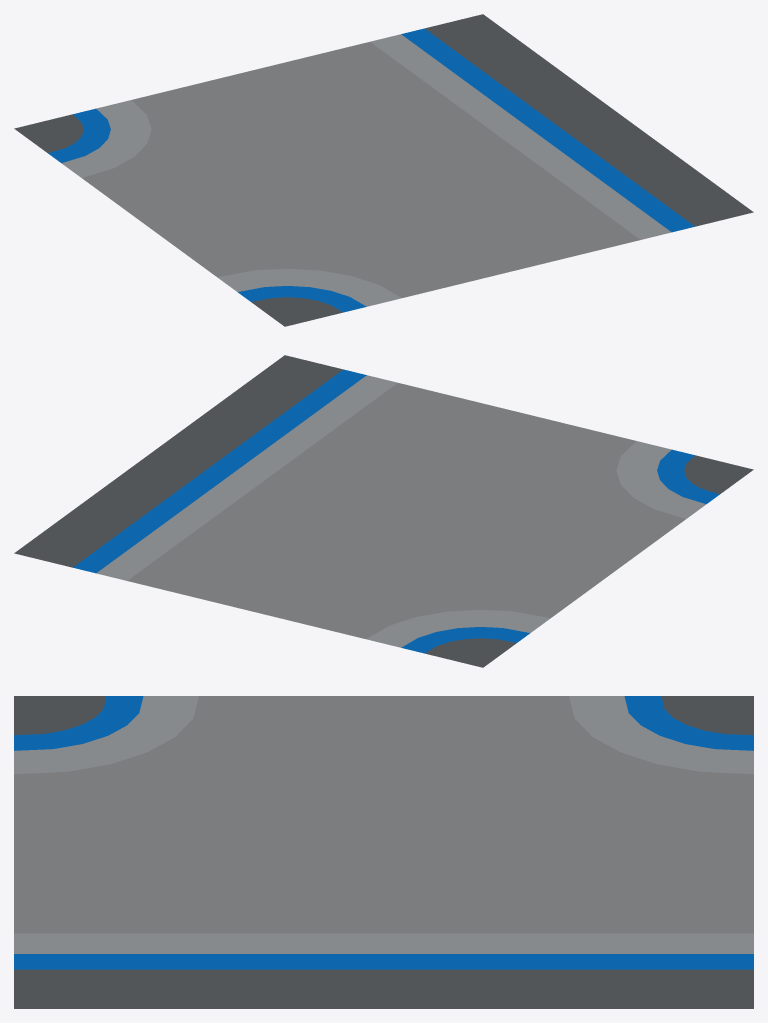
File: Ceiling_type_B_034.004.fbx
3 views of the same model, one above another, from view 1: azimuth 30°, elevation 25°; view 2: azimuth 150°, elevation 25°; view 3: azimuth 270°, elevation 25° (orthographic). The views are drawn at different scales.
Visible parts, largest first — view 1: Ceiling_type_B_034.004; view 2: Ceiling_type_B_034.004; view 3: Ceiling_type_B_034.004.
Part boxes in pixels (left/top/right/bottom): Ceiling_type_B_034.004: left=14, top=14, right=753, bottom=326; Ceiling_type_B_034.004: left=14, top=355, right=753, bottom=667; Ceiling_type_B_034.004: left=14, top=696, right=753, bottom=1008.
Bounding box in the file's own units: 400 × 400 × 1.2.
